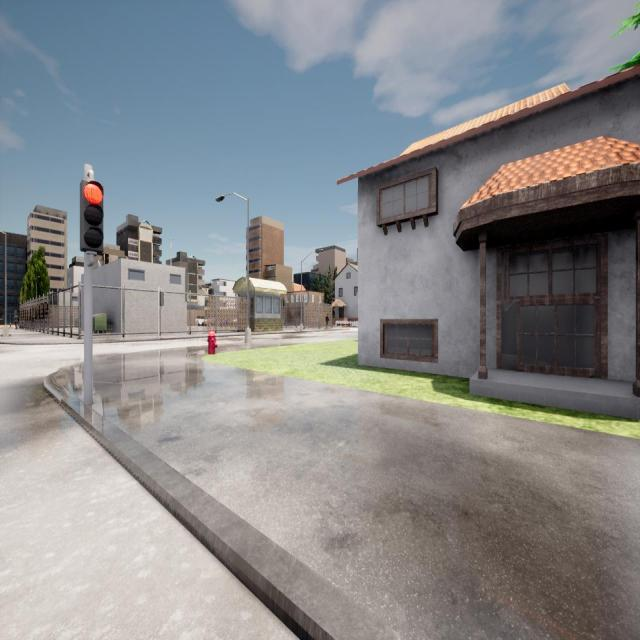Pedestrian: (13, 313, 19, 330), (325, 313, 330, 328)
Vehicle: (196, 316, 207, 326)
traffic_light: (80, 181, 104, 251), (160, 291, 164, 305)
